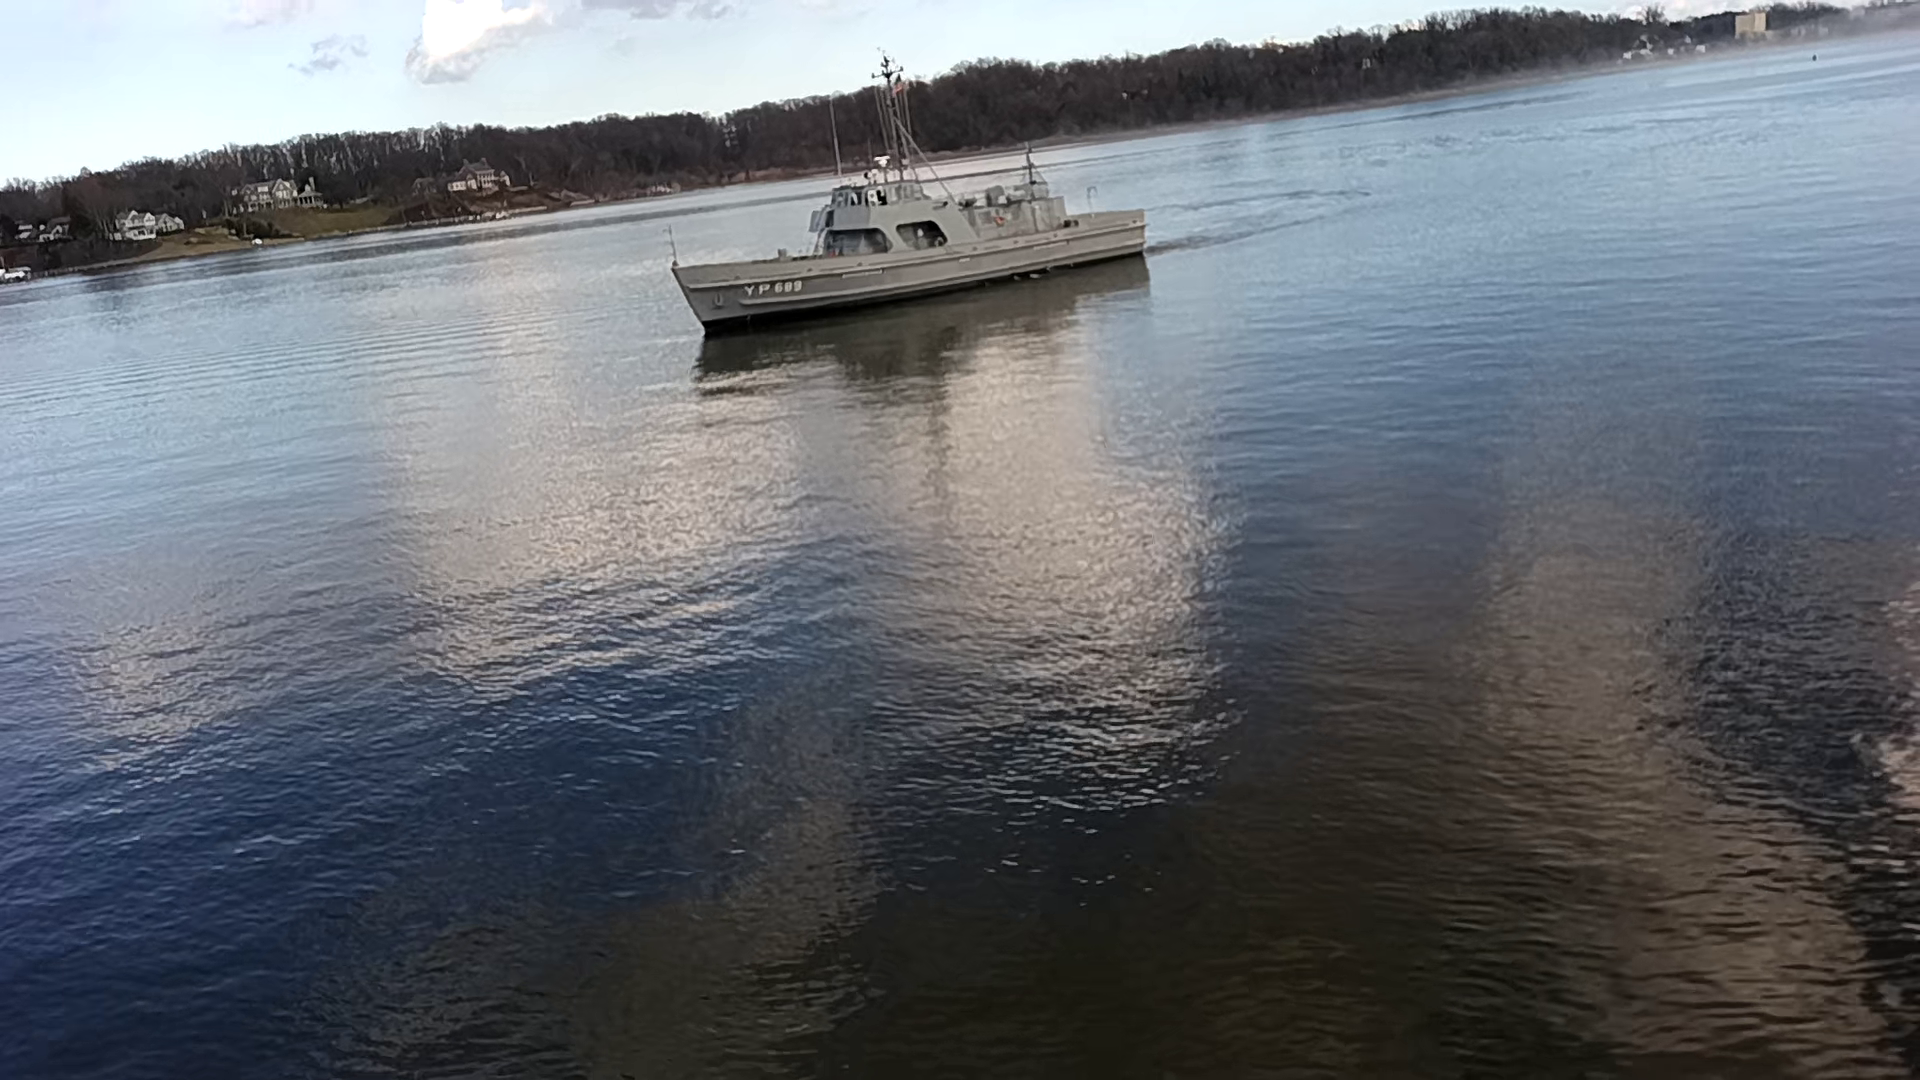YP689: (673, 55, 1147, 335)
